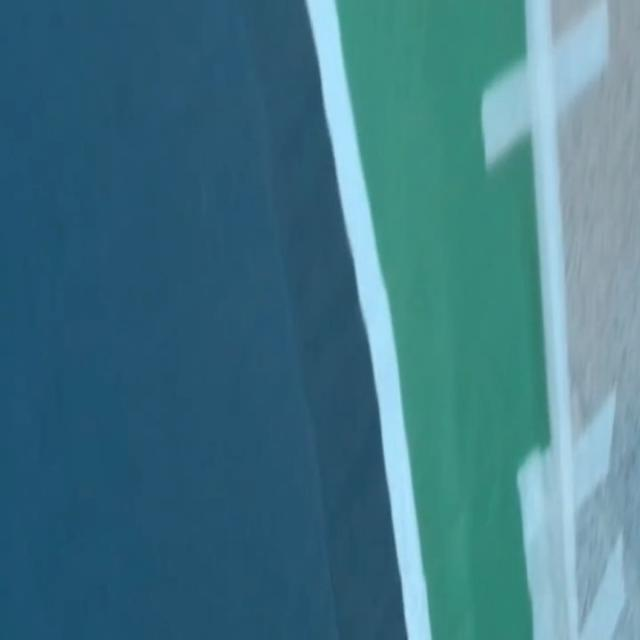right: (306, 0, 431, 639)
